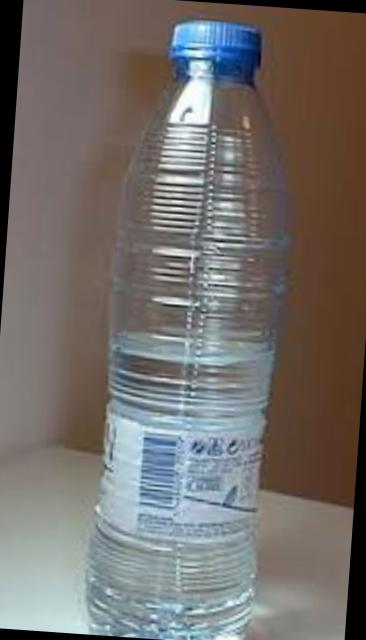plastic: (83, 16, 281, 640)
